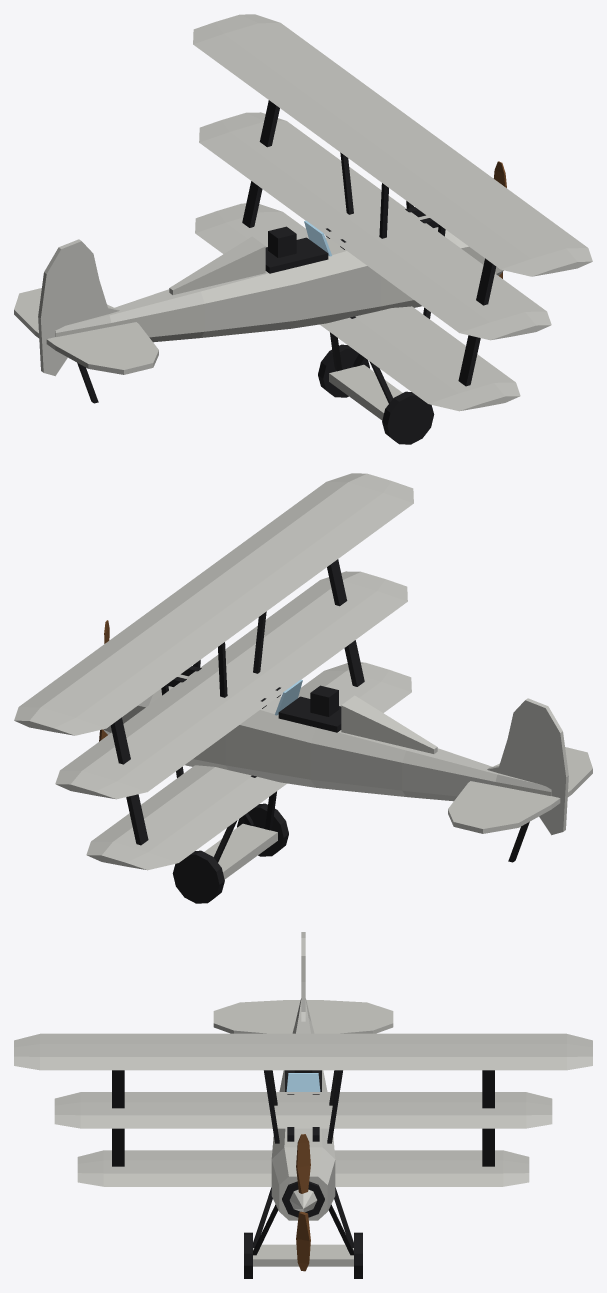
3 renders of one model, top to bottom at view 1: azimuth 30°, elevation 25°; view 2: azimuth 150°, elevation 25°; view 3: azimuth 270°, elevation 25°, orthographic. The views are drawn at different scales.
Parts seen in each view (by area): view 1: Airframe; view 2: Airframe; view 3: Airframe, Propeller.
Part boxes in pixels (x1,y1,x2,y2): Airframe: (14,14,592,444); Airframe: (14,473,592,903); Airframe: (14,932,592,1278); Propeller: (289,1134,317,1271).
Size of the model in its own units: 8.12 by 4.48 by 10.
